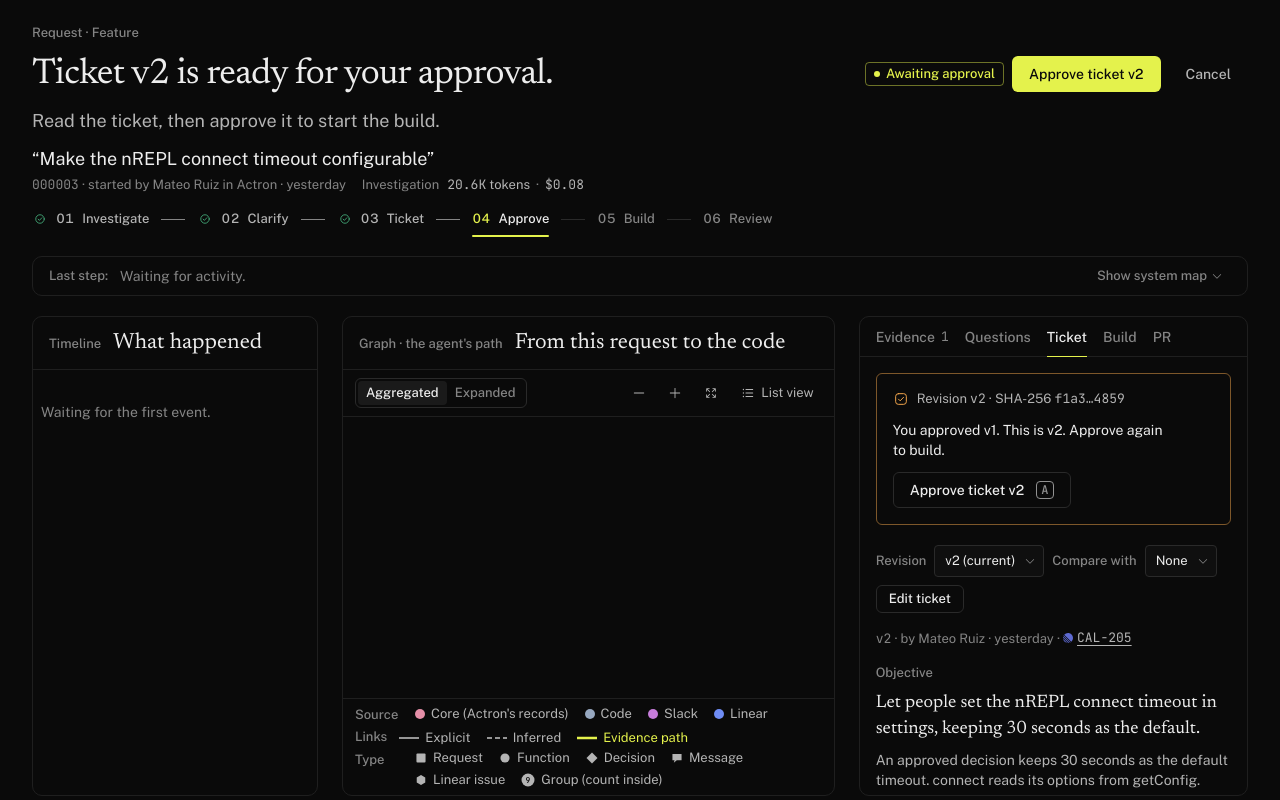
Scenario: C-AC-11 ticket approval from the page › C-AC-18 a 409 shows the server reason inline and removes the optimistic approval
Click the button "Approve ticket v2 A" at (982, 490), box [893,472,1071,508]
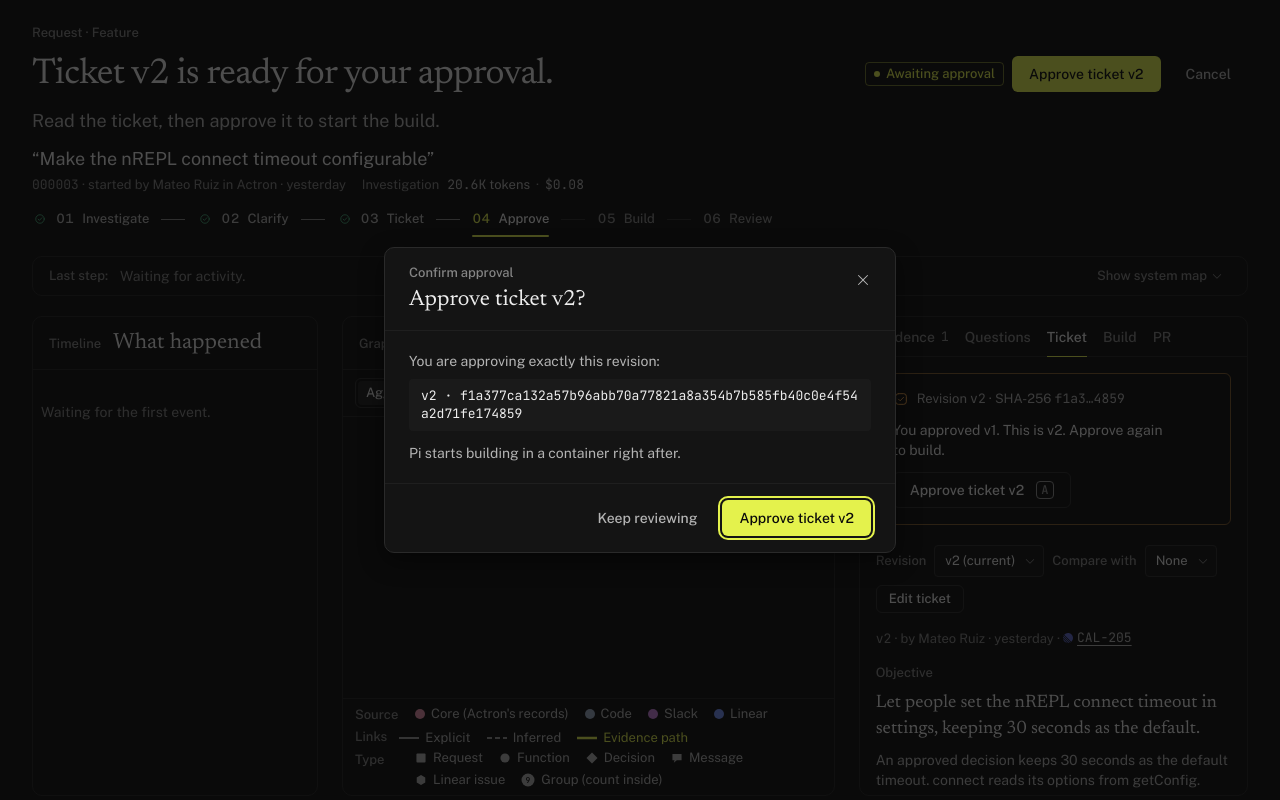
Click the button "Approve ticket v2" at (797, 518), box [722,500,871,536]
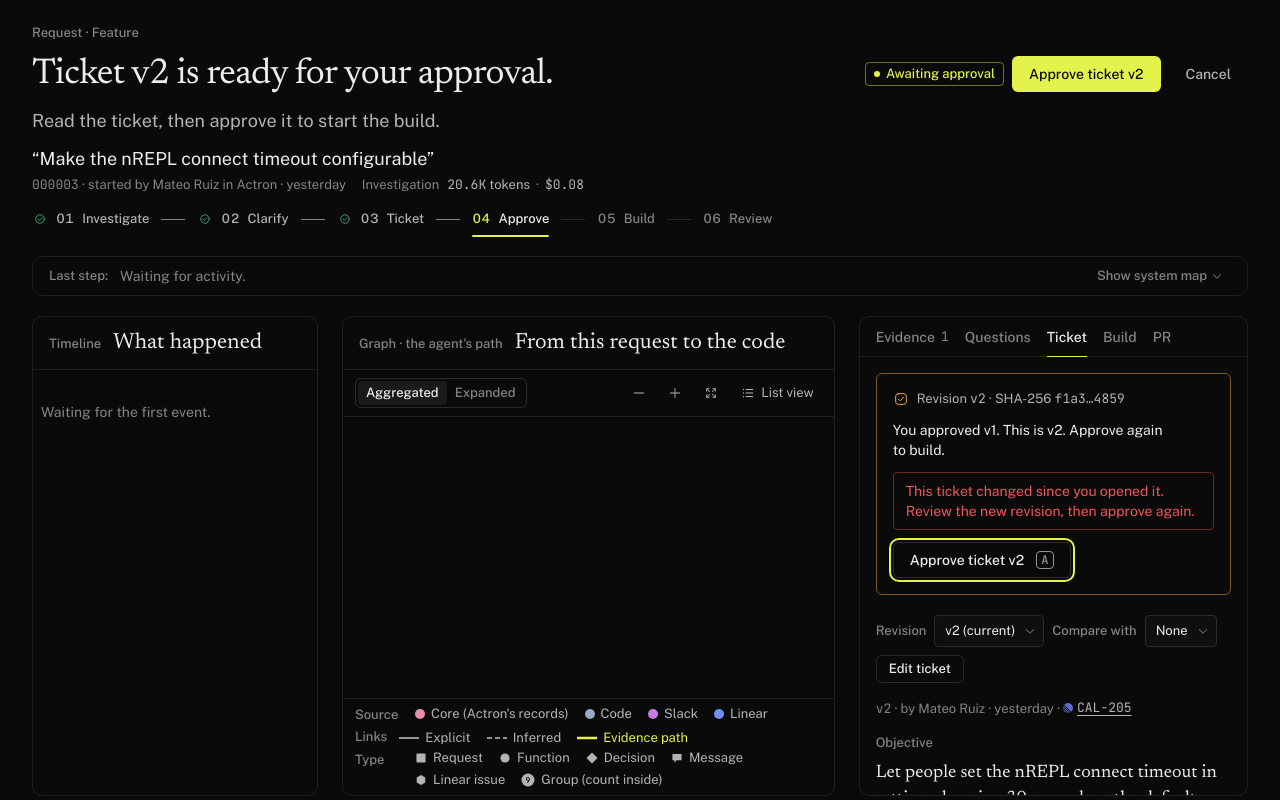
Now the message shows "This ticket changed since you opened it.", box [906,483,1195,519]
